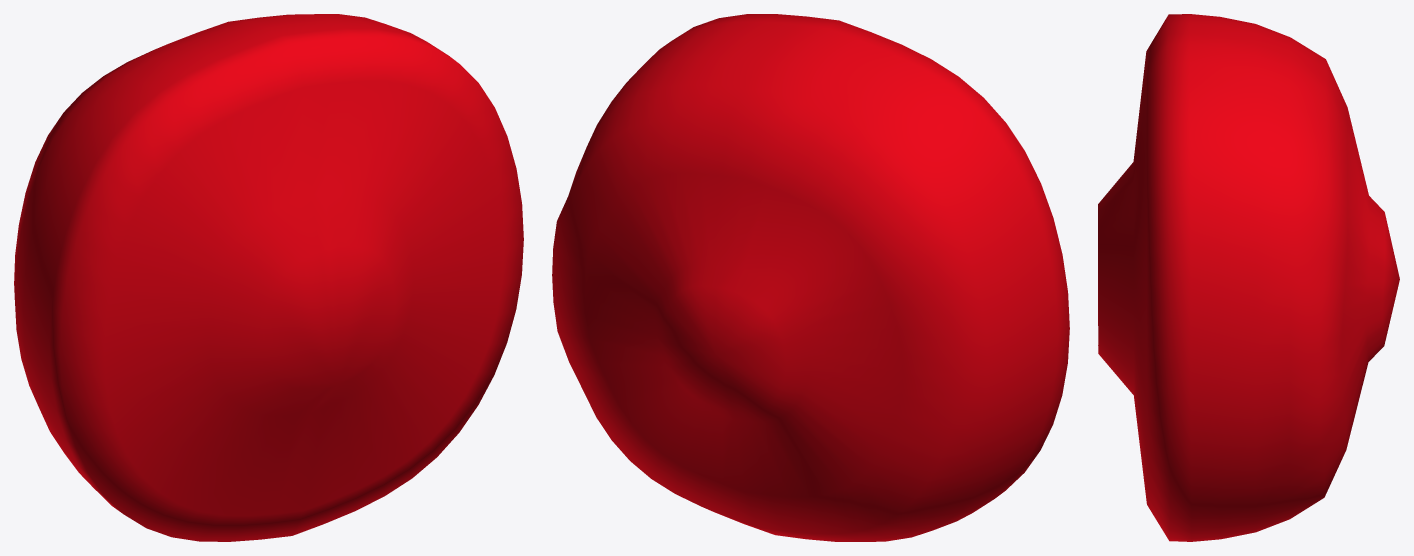
The model's file is Spine034.fbx.
3 views of the same model, side by side, from view 1: azimuth 30°, elevation 25°; view 2: azimuth 150°, elevation 25°; view 3: azimuth 270°, elevation 25° (orthographic). The views are drawn at different scales.
Parts seen in each view (by area): view 1: Cube.007; view 2: Cube.007; view 3: Cube.007.
Part boxes in pixels (x1=…): Cube.007: x1=14, y1=14, x2=523, y2=541; Cube.007: x1=552, y1=14, x2=1069, y2=541; Cube.007: x1=1098, y1=14, x2=1399, y2=541.
Size of the model in its own units: 23.11 by 23.46 by 13.73.
